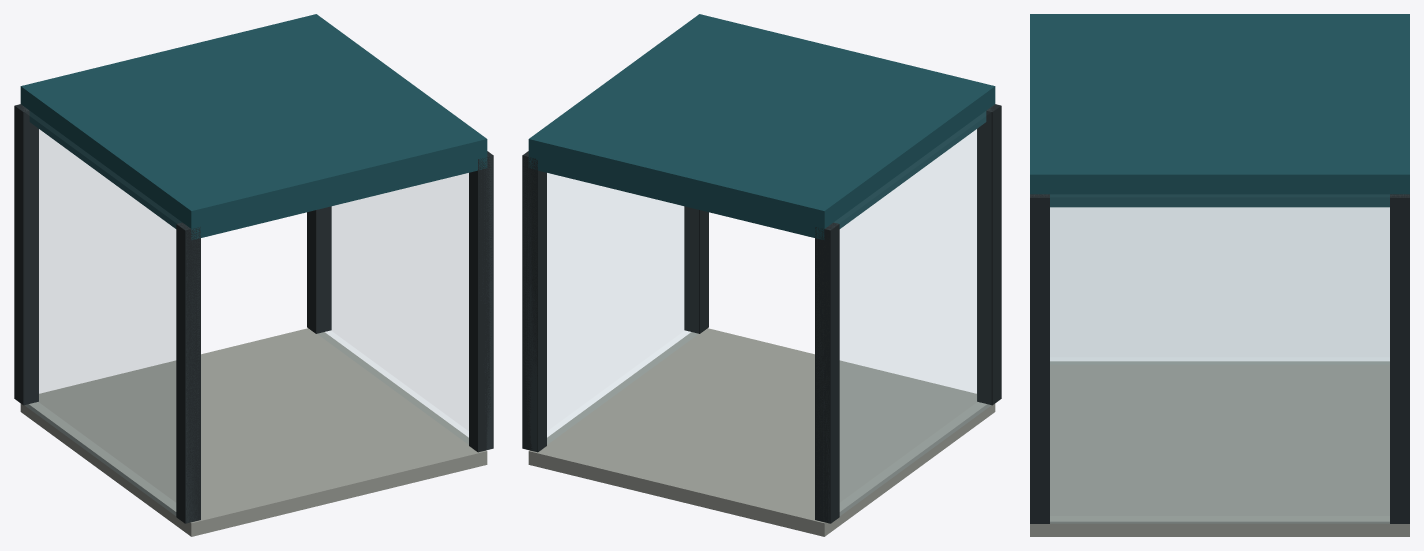
Rendered from SM_StationLift.fbx.
The picture shows the model from 3 angles, left to right: view 1: azimuth 30°, elevation 25°; view 2: azimuth 150°, elevation 25°; view 3: azimuth 270°, elevation 25°; orthographic projection. The views are drawn at different scales.
Visible parts, largest first — view 1: SM_StationLift_UEExport; view 2: SM_StationLift_UEExport; view 3: SM_StationLift_UEExport.
Boxes of the visible parts, x1,y1,x2,y2 form: SM_StationLift_UEExport: (14,14,493,536); SM_StationLift_UEExport: (522,14,1001,536); SM_StationLift_UEExport: (1030,14,1409,536).
Bounding box in the file's own units: 198 × 190 × 200.
